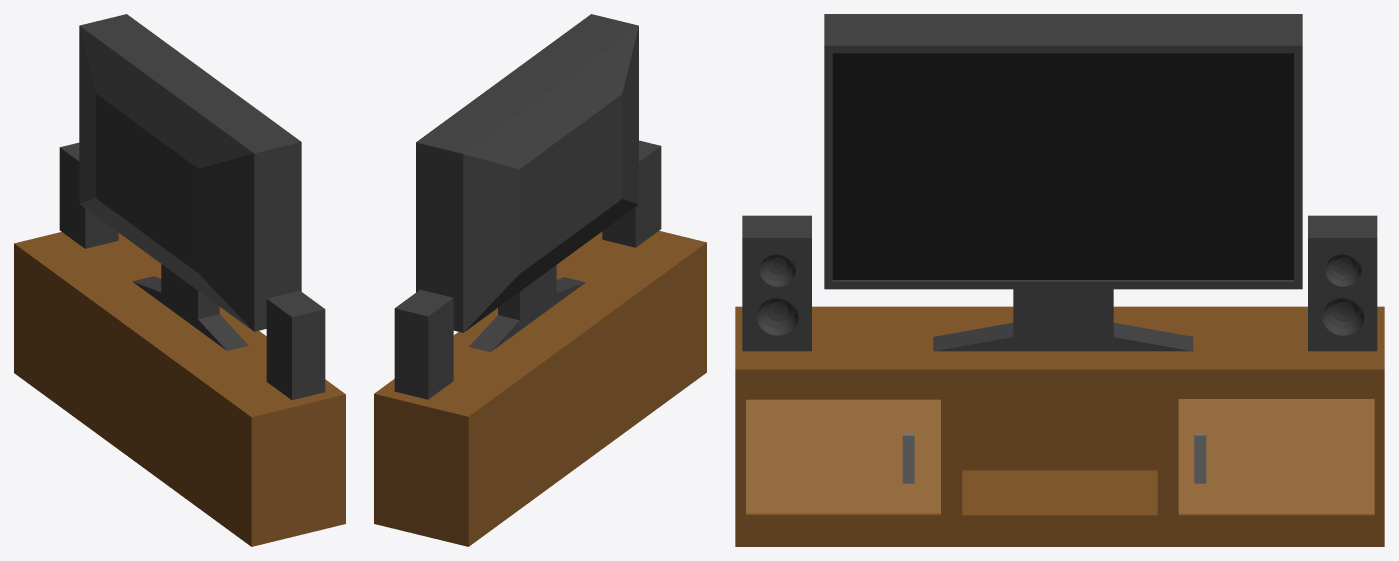
3 renders of one model, left to right at view 1: azimuth 30°, elevation 25°; view 2: azimuth 150°, elevation 25°; view 3: azimuth 270°, elevation 25°, orthographic. The views are drawn at different scales.
Parts seen in each view (by area): view 1: Cube.046, Cube.045, Cube.047, Cube.048; view 2: Cube.046, Cube.045, Cube.048, Cube.047; view 3: Cube.045, Cube.046, Cube.047, Cube.048.
Part boxes in pixels (left/top/right/bottom): Cube.046: left=14, top=232, right=345, bottom=546; Cube.045: left=79, top=14, right=301, bottom=350; Cube.047: left=266, top=290, right=325, bottom=400; Cube.048: left=59, top=142, right=118, bottom=248; Cube.046: left=374, top=230, right=706, bottom=546; Cube.045: left=416, top=14, right=638, bottom=351; Cube.048: left=394, top=289, right=453, bottom=399; Cube.047: left=602, top=140, right=661, bottom=247; Cube.045: left=824, top=14, right=1302, bottom=351; Cube.046: left=735, top=306, right=1384, bottom=546; Cube.047: left=742, top=215, right=811, bottom=351; Cube.048: left=1308, top=215, right=1377, bottom=351.
Size of the model in its own units: 577 by 2068 by 2467.
